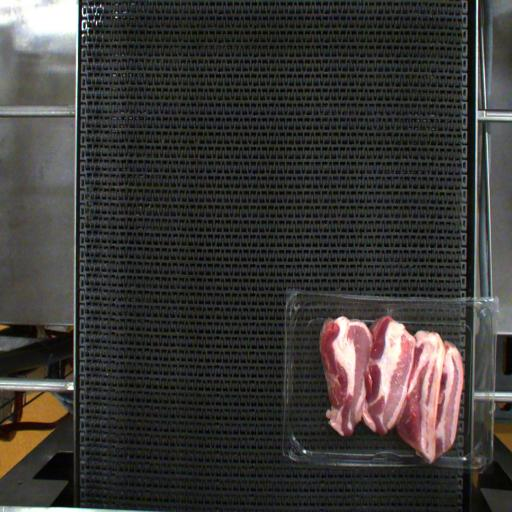packaging-error: (381, 293, 405, 324)
